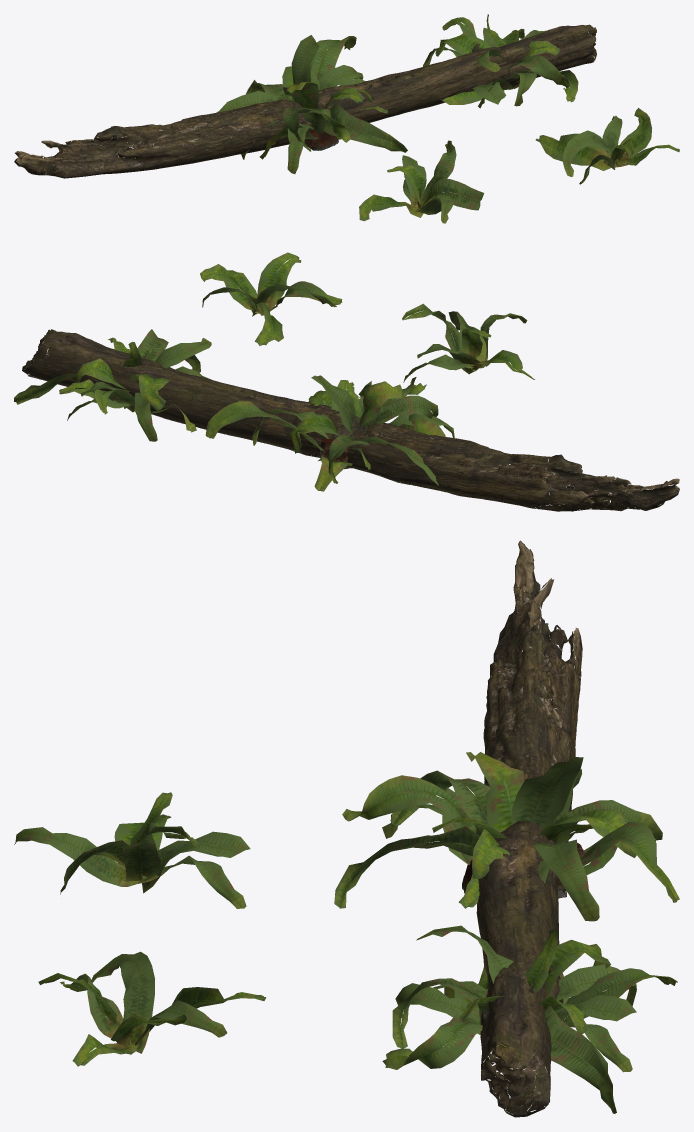
File: forest-props-real-v1.glb
3 renders of one model, top to bottom at view 1: azimuth 30°, elevation 25°; view 2: azimuth 150°, elevation 25°; view 3: azimuth 270°, elevation 25°, orthographic. The views are drawn at different scales.
Visible parts, largest first — view 1: fern_02, dead_tree_trunk, rock_07; view 2: dead_tree_trunk, fern_02; view 3: fern_02, dead_tree_trunk.
Part boxes in pixels (x1=…): fern_02: x1=217, y1=14, x2=679, y2=223; dead_tree_trunk: x1=14, y1=24, x2=596, y2=178; rock_07: x1=304, y1=130, x2=338, y2=150; dead_tree_trunk: x1=22, y1=329, x2=679, y2=511; fern_02: x1=14, y1=252, x2=534, y2=491; fern_02: x1=14, y1=752, x2=679, y2=1113; dead_tree_trunk: x1=476, y1=540, x2=582, y2=1117.
Bounding box in the file's own units: 3.05 × 0.4292 × 1.72.
3 materials, 3 textured.
